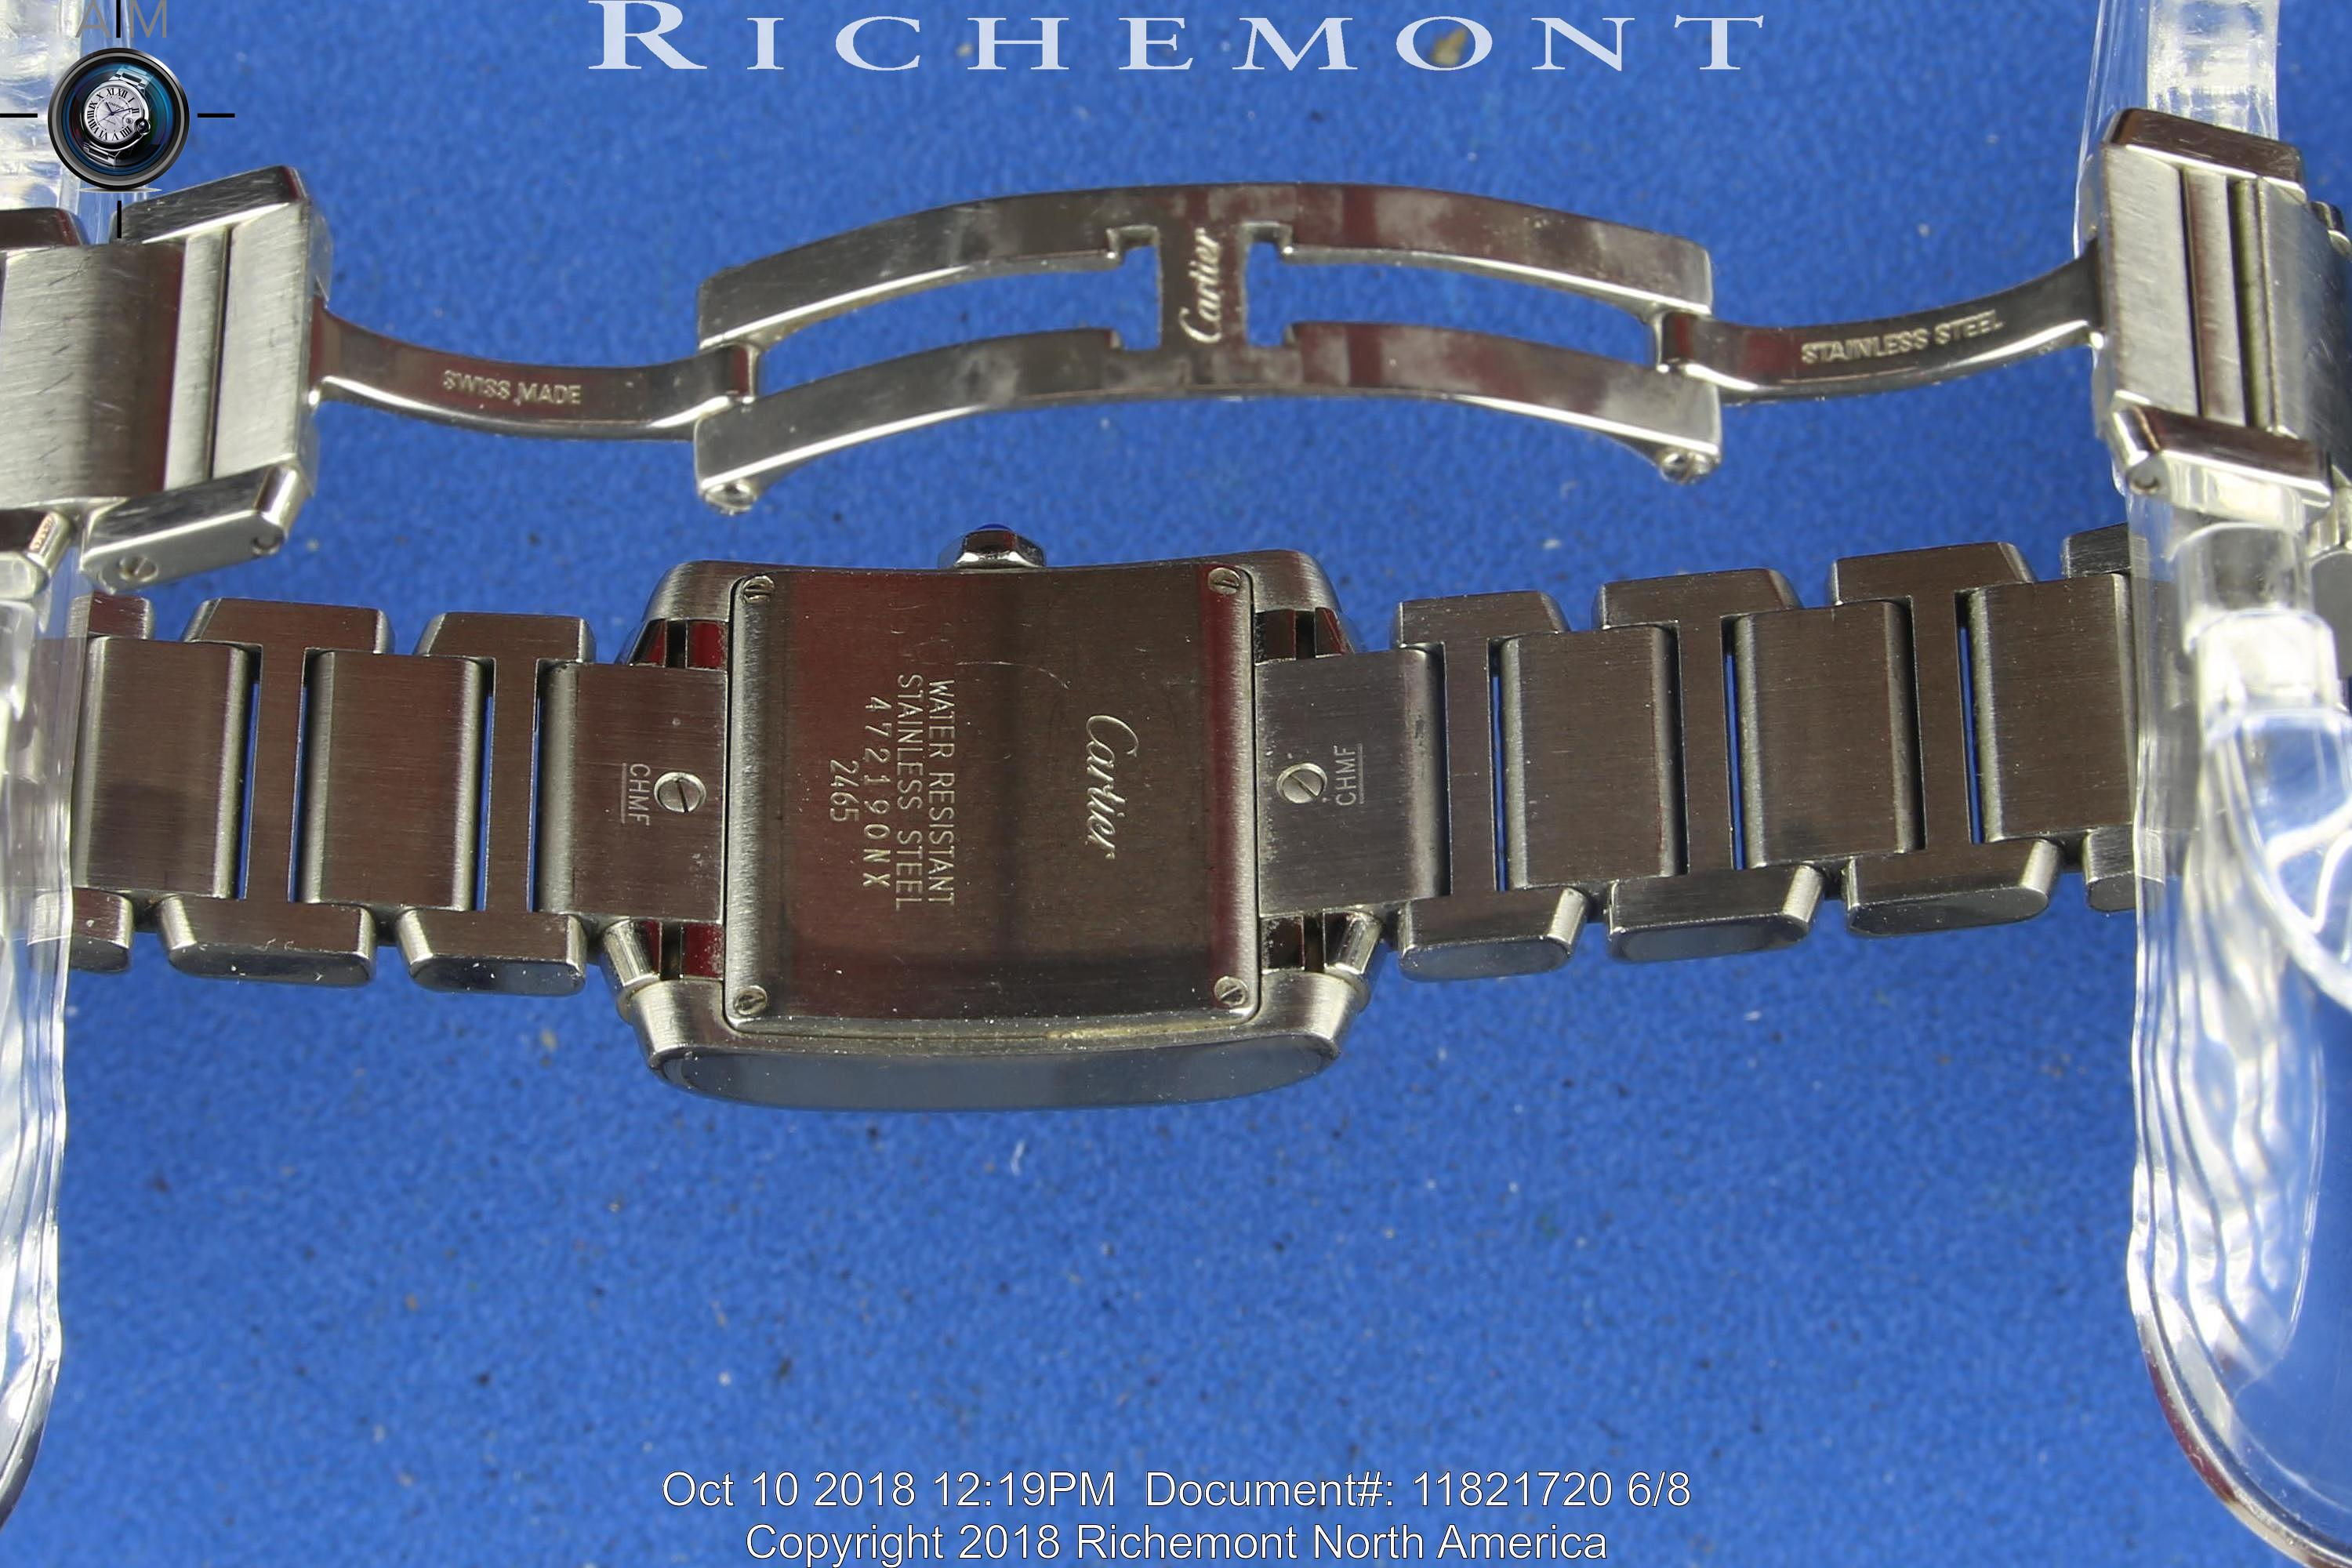watchback: (735, 569, 1269, 1020)
